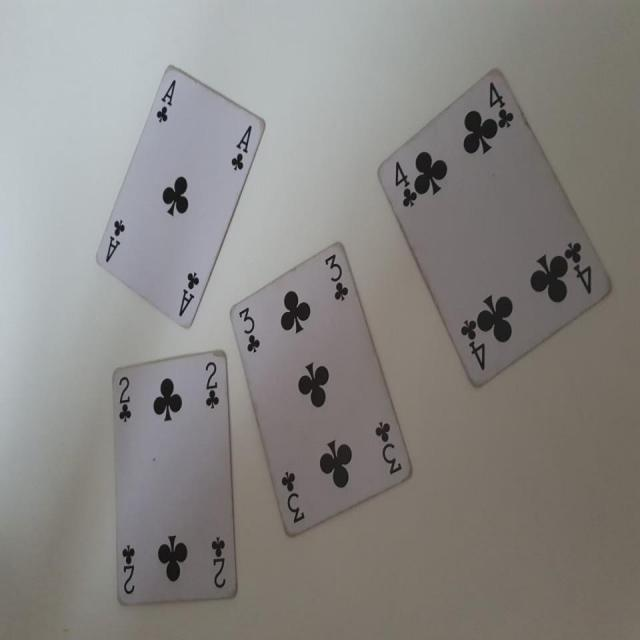2 Trefoils: (108, 345, 238, 606)
3 Trefoils: (228, 237, 417, 538)
4 Trefoils: (372, 68, 614, 390)
A Trefoils: (95, 62, 267, 329)
